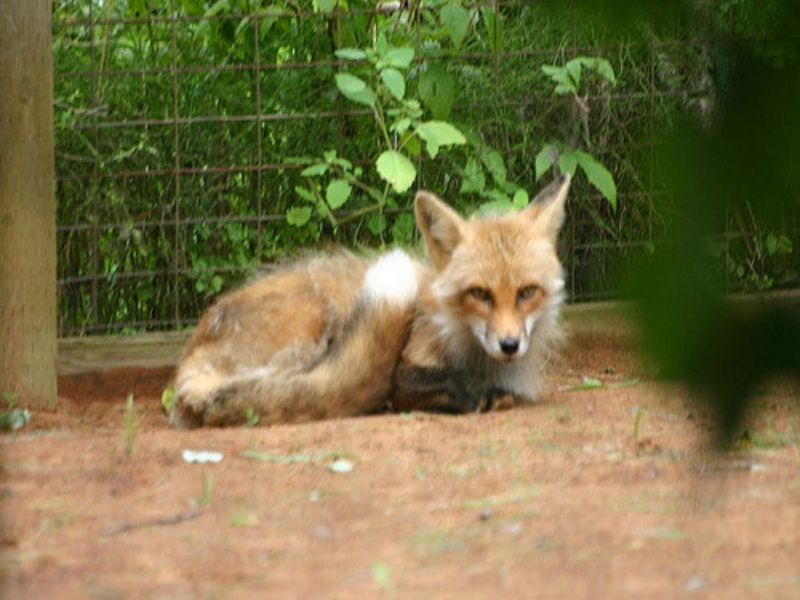fox: (161, 164, 574, 440)
